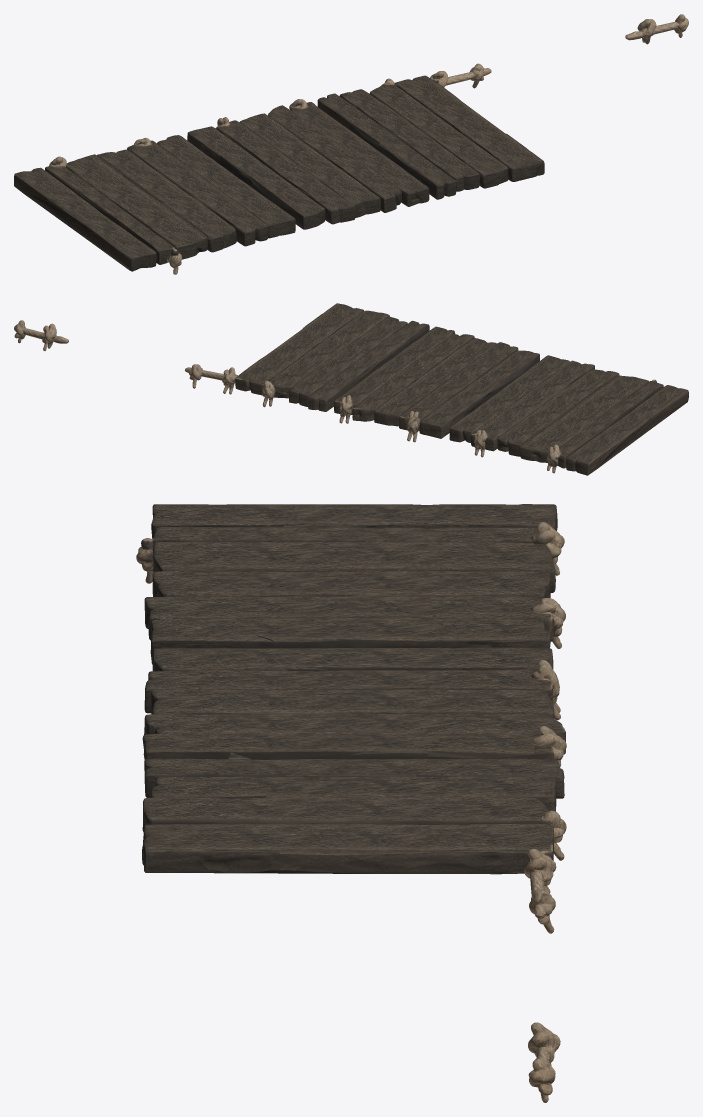
Rendered from ponte_corda.glb.
The picture shows the model from 3 angles, top to bottom: view 1: azimuth 30°, elevation 25°; view 2: azimuth 150°, elevation 25°; view 3: azimuth 270°, elevation 25°; orthographic projection. The views are drawn at different scales.
Size of the model in its own units: 1.9 by 0.0949 by 0.614.
Materials: 1 (1 with a texture image).
